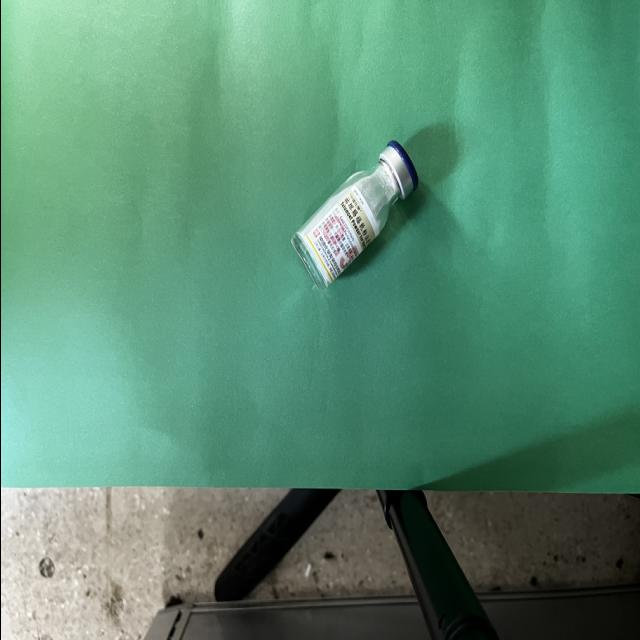Vials: (290, 142, 416, 289)
